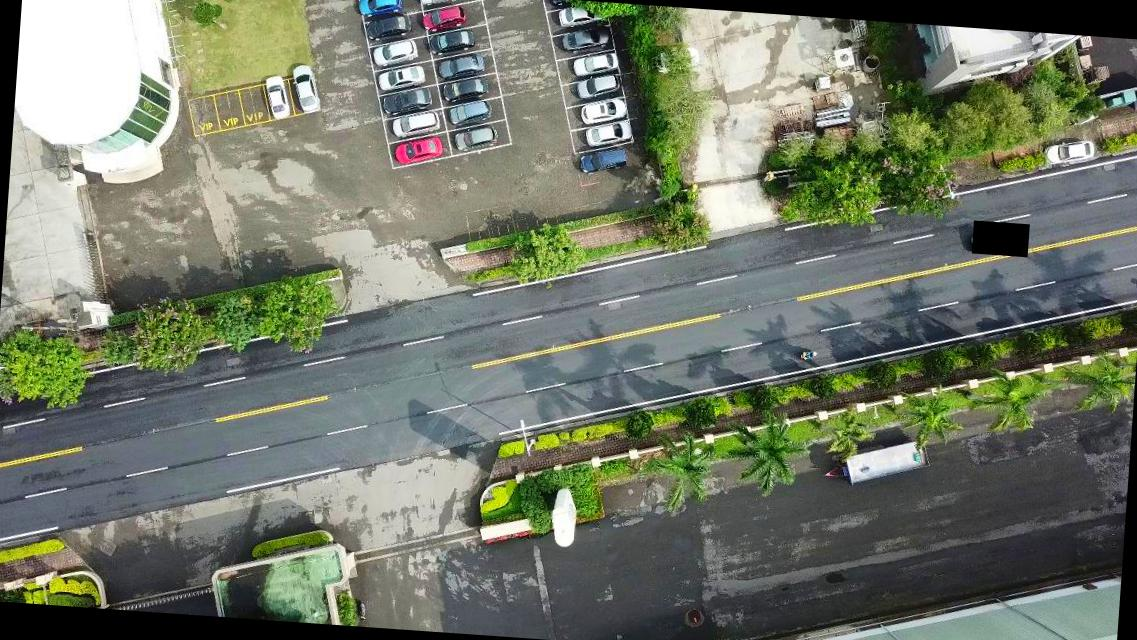vehicle: (378, 84, 433, 120), (1040, 136, 1096, 168), (389, 108, 439, 142), (290, 61, 321, 115), (393, 132, 442, 166), (442, 96, 493, 128), (452, 120, 498, 154), (558, 24, 608, 55), (578, 94, 628, 125), (555, 0, 608, 29), (584, 117, 632, 149), (372, 63, 426, 91), (363, 10, 411, 41), (442, 74, 490, 105), (370, 36, 416, 68), (421, 1, 467, 33), (579, 146, 626, 177), (571, 48, 619, 78), (653, 44, 700, 74), (262, 73, 292, 119), (428, 26, 475, 54), (576, 72, 620, 101), (438, 52, 484, 78), (355, 0, 402, 20), (413, 0, 462, 8)
